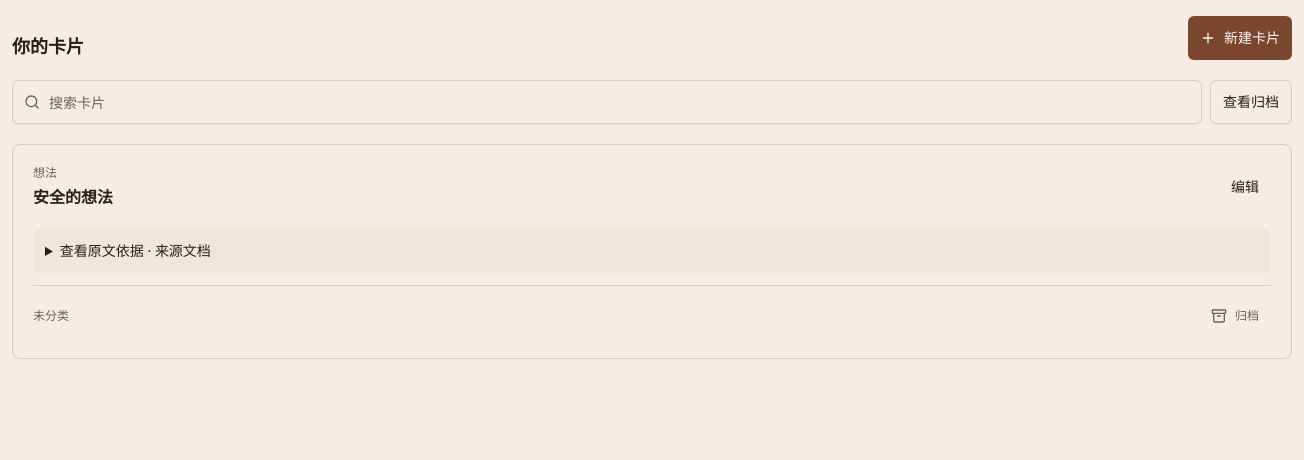
Test case: Knowledge cards › shows source evidence and sanitizes Markdown
Expected: the heading "安全的想法" is shown, top-left (33, 185), bottom-right (113, 209)
Click the heading "查看原文依据 · 来源文档": [107, 250] box top-left (45, 241), bottom-right (1259, 261)
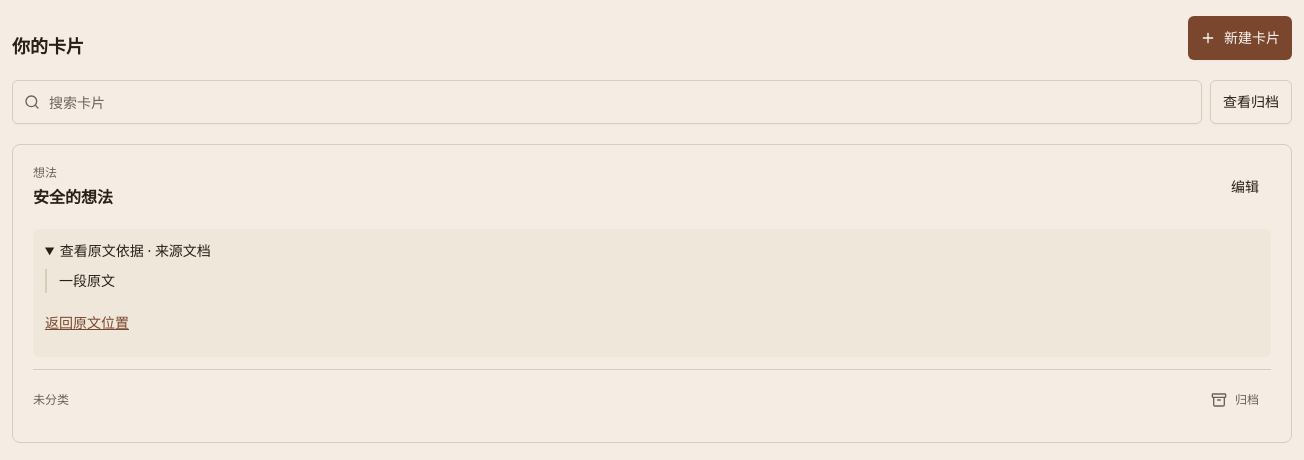
Now the text "一段原文" is shown, box top-left (45, 269), bottom-right (1259, 293)
